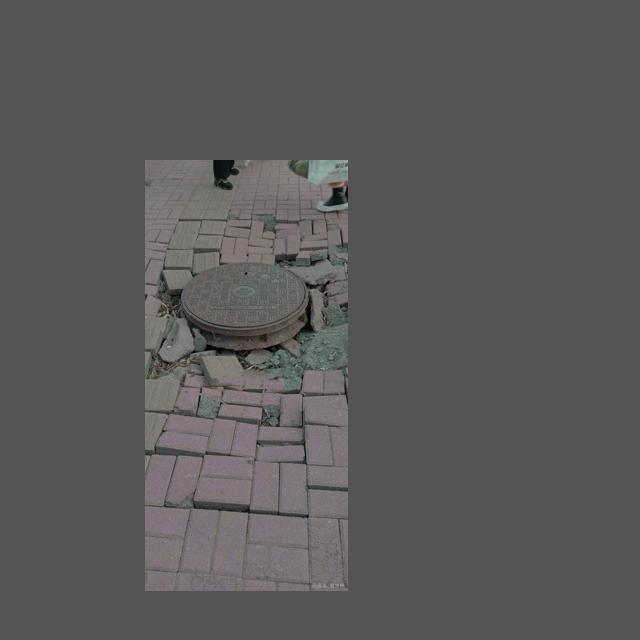circle: (149, 224, 345, 432)
